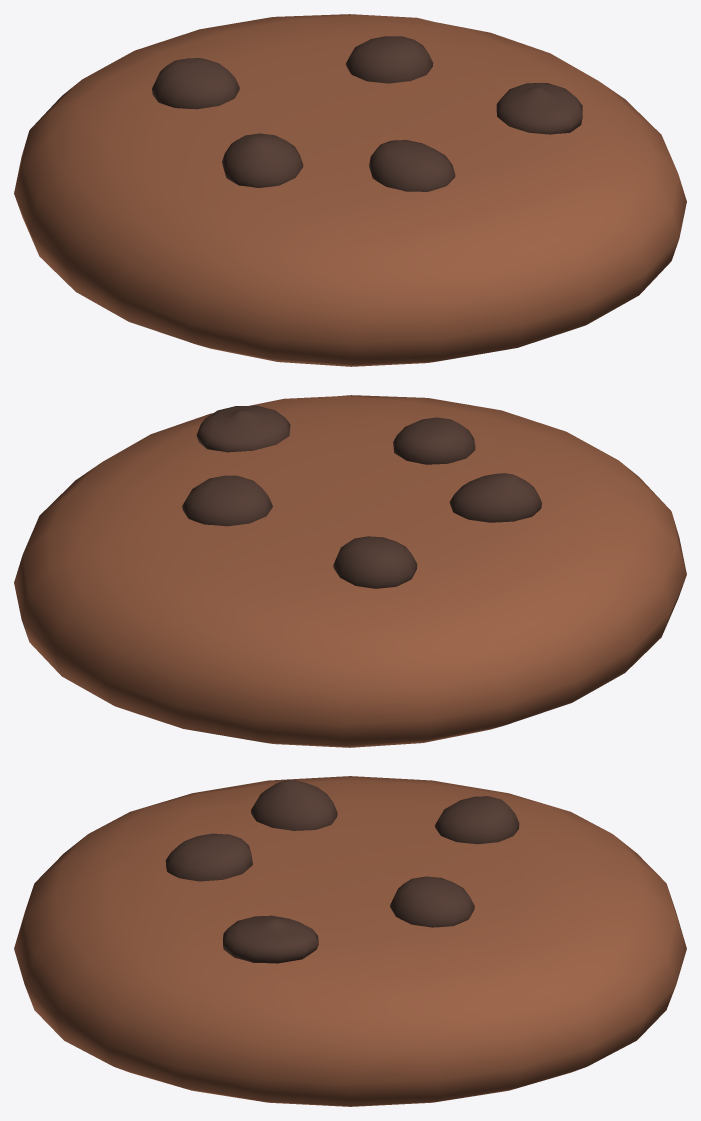
Rendered from CookieChoc_03.fbx.
3 views of the same model, one above another, from view 1: azimuth 30°, elevation 25°; view 2: azimuth 150°, elevation 25°; view 3: azimuth 270°, elevation 25° (orthographic). The views are drawn at different scales.
Visible parts, largest first — view 1: CookieChoc_03_LOD0; view 2: CookieChoc_03_LOD0; view 3: CookieChoc_03_LOD0.
Boxes of the visible parts, <box> form: CookieChoc_03_LOD0: <box>14,14,686,366</box>; CookieChoc_03_LOD0: <box>14,395,686,747</box>; CookieChoc_03_LOD0: <box>14,776,686,1106</box>.
Size of what is drawn, in the model's own units: 468 by 126 by 493.
